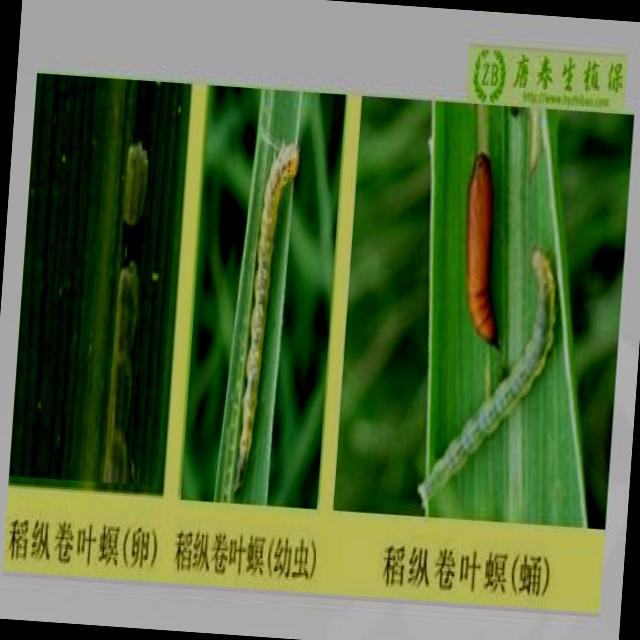leaf folder: (420, 248, 556, 513), (234, 143, 296, 489), (467, 152, 496, 344), (91, 426, 138, 493), (113, 260, 139, 363), (101, 356, 131, 433), (122, 141, 148, 226)
